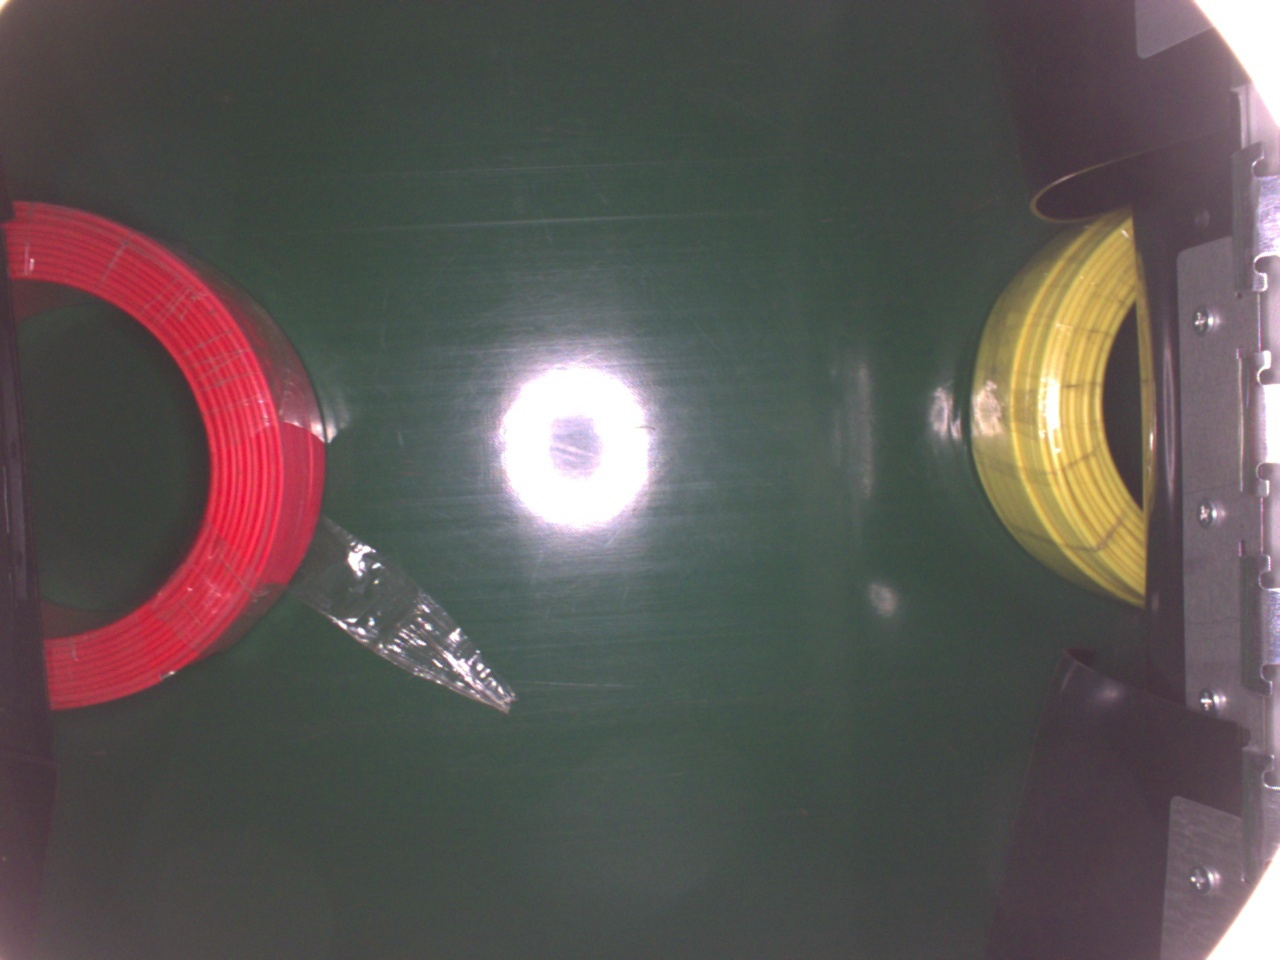red: (0, 202, 325, 713)
yellow: (965, 210, 1147, 608)
